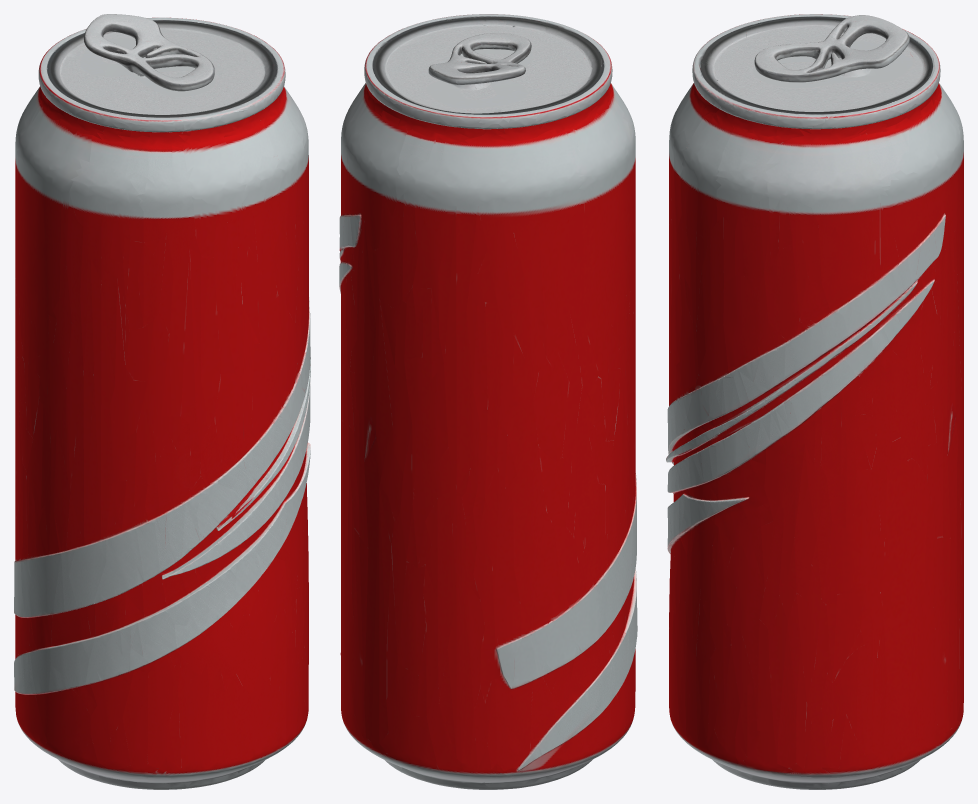
The model's file is sodacan.glb.
The picture shows the model from 3 angles, left to right: view 1: azimuth 30°, elevation 25°; view 2: azimuth 150°, elevation 25°; view 3: azimuth 270°, elevation 25°; orthographic projection.
Bounding box in the file's own units: 0.7278 × 1.9 × 0.7293.
1 material, 1 textured.
